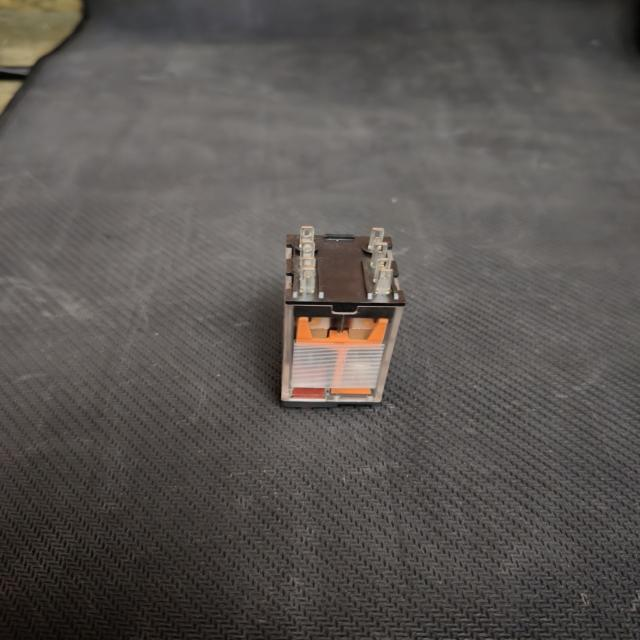relay: (271, 211, 416, 420)
